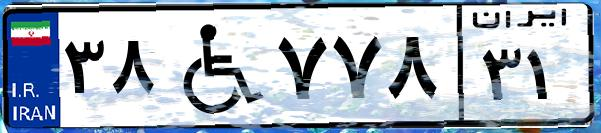1: (525, 38, 570, 115)
3: (57, 26, 110, 100), (475, 38, 525, 113)
7: (270, 28, 330, 110), (330, 28, 385, 110)
8: (385, 28, 445, 110), (110, 28, 158, 98)
ژ (معلولین و جانبازان): (158, 12, 270, 120)
